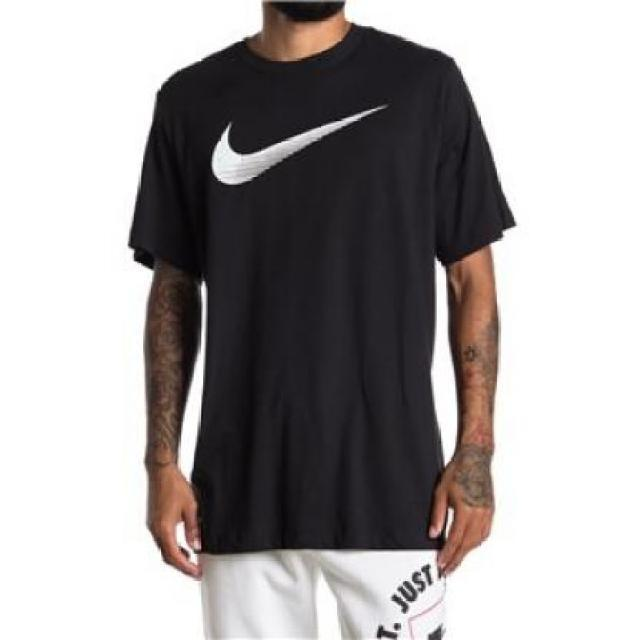Nike: (209, 98, 384, 183)
